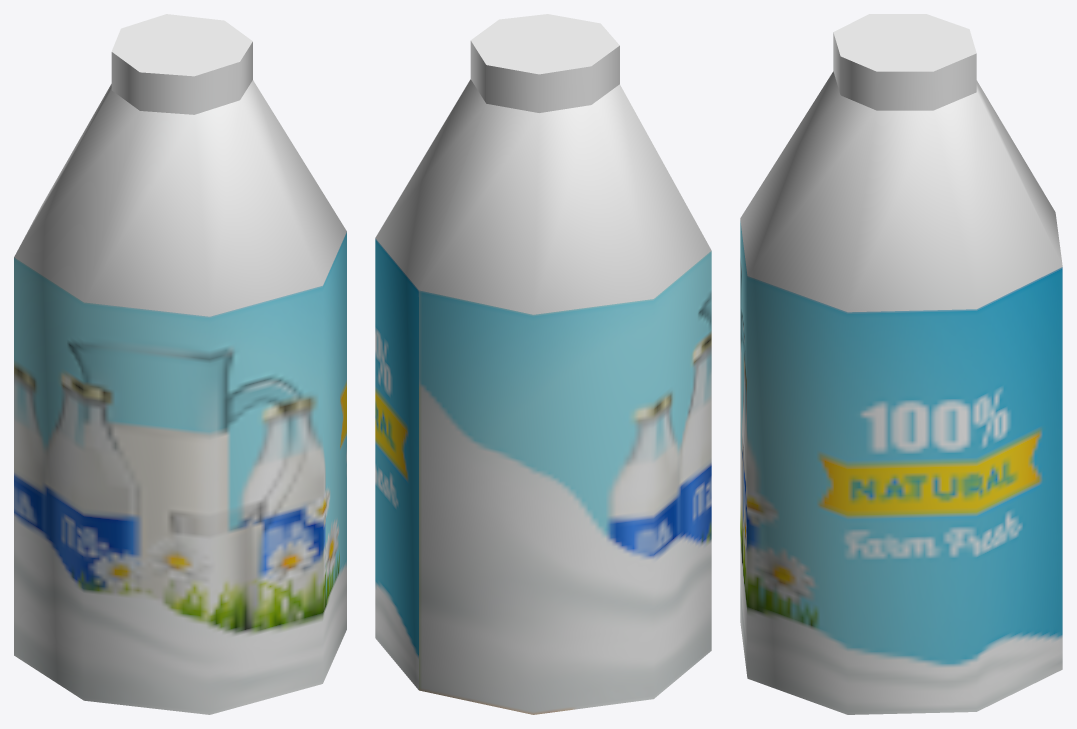
File: Milk_Botle.fbx
The picture shows the model from 3 angles, left to right: view 1: azimuth 30°, elevation 25°; view 2: azimuth 150°, elevation 25°; view 3: azimuth 270°, elevation 25°; orthographic projection.
Parts seen in each view (by area): view 1: Milk_Botle; view 2: Milk_Botle; view 3: Milk_Botle.
Part boxes in pixels (left/top/right/bottom): Milk_Botle: left=14, top=14, right=346, bottom=714; Milk_Botle: left=375, top=14, right=711, bottom=714; Milk_Botle: left=740, top=14, right=1062, bottom=714.
Bounding box in the file's own units: 18.52 × 38.26 × 18.52.
